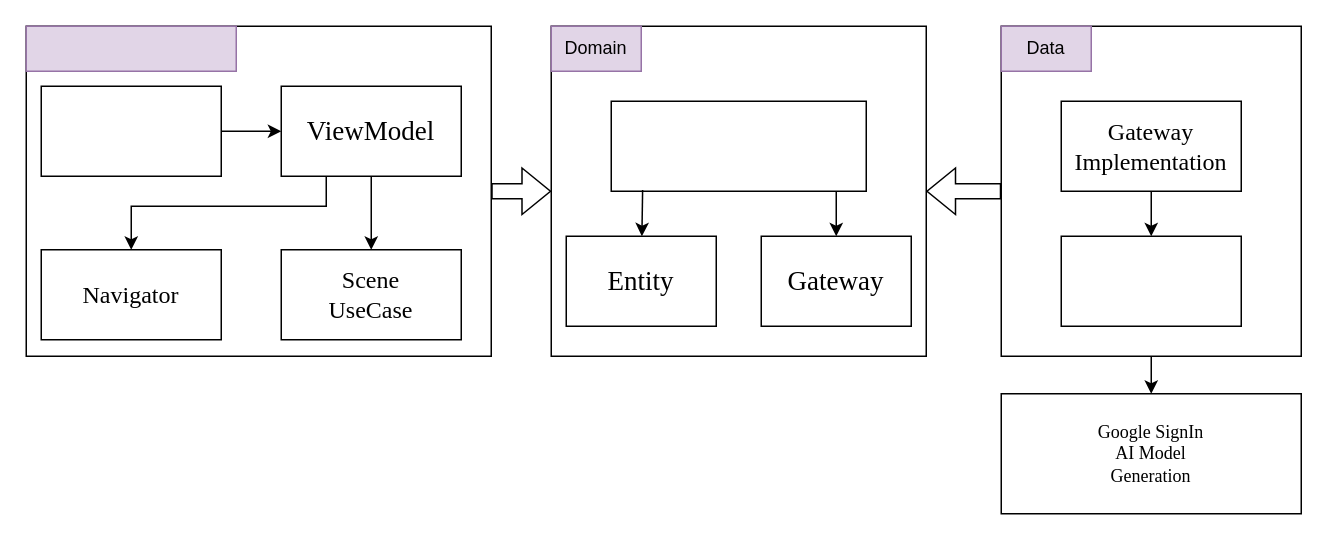
Some shapes in this 1328 by 552 pixel diagram are drawn without their labels. The centre of each missing label's shape, as x and y in pixels:
APIs: pixel 1150 280
Presentation Layer: pixel 130 48
UseCase: pixel 738 145
View: pixel 130 130
